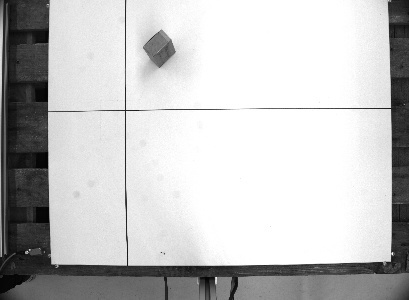b1: (141, 27, 177, 70)
